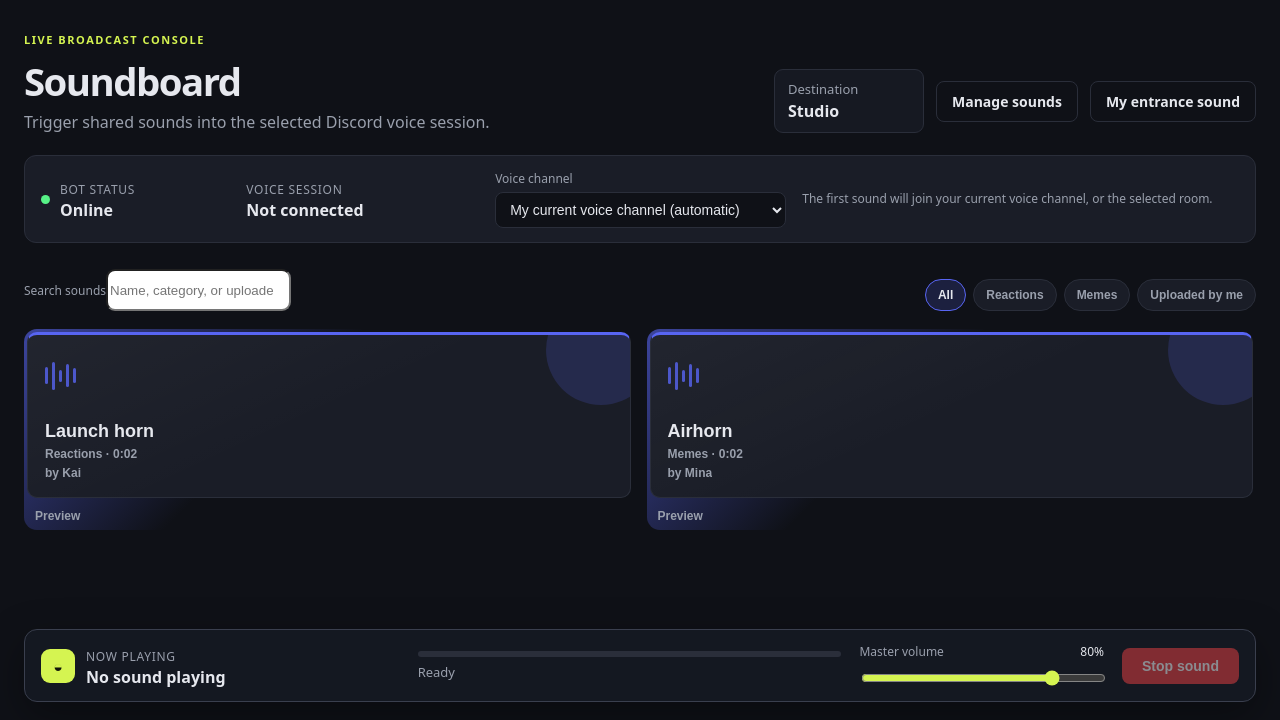
Scenario: Soundboard › keeps the active pad and announces a busy response
Click the button with aria-label "Play Launch horn": click(100, 431) [27,332,630,498]
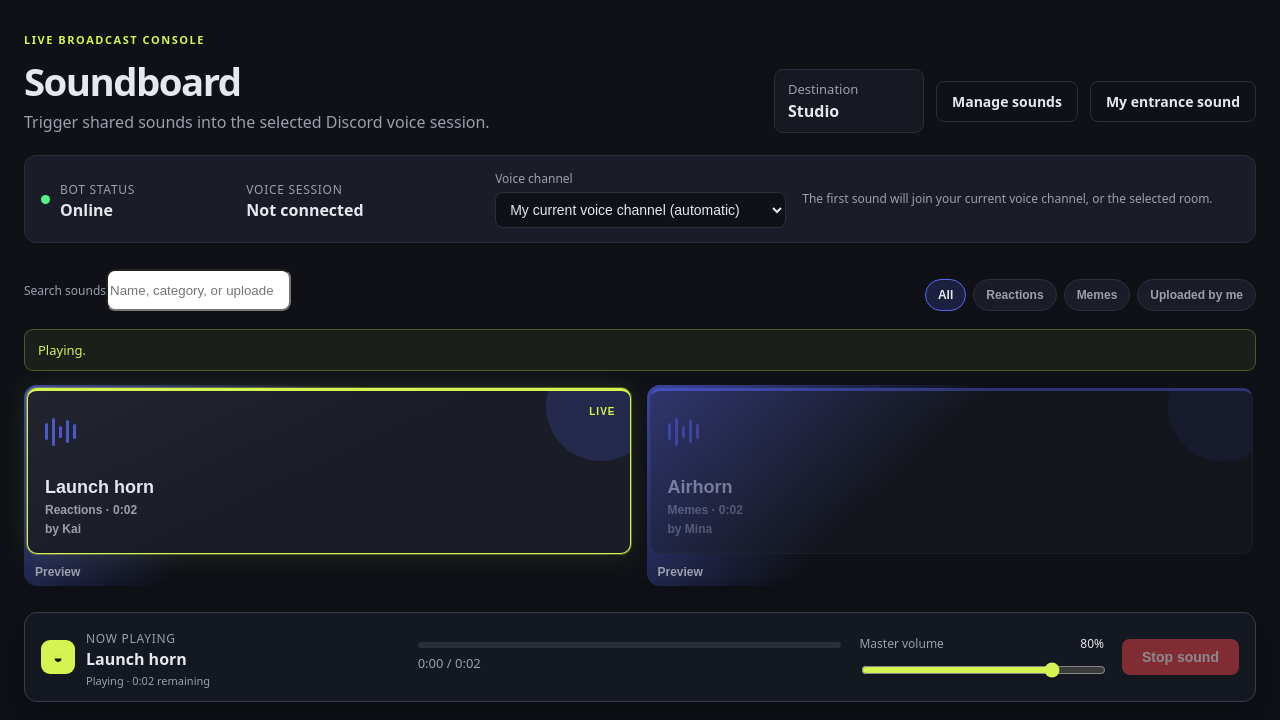
Click the button with aria-label "Play Launch horn": click(100, 487) [27,388,630,554]
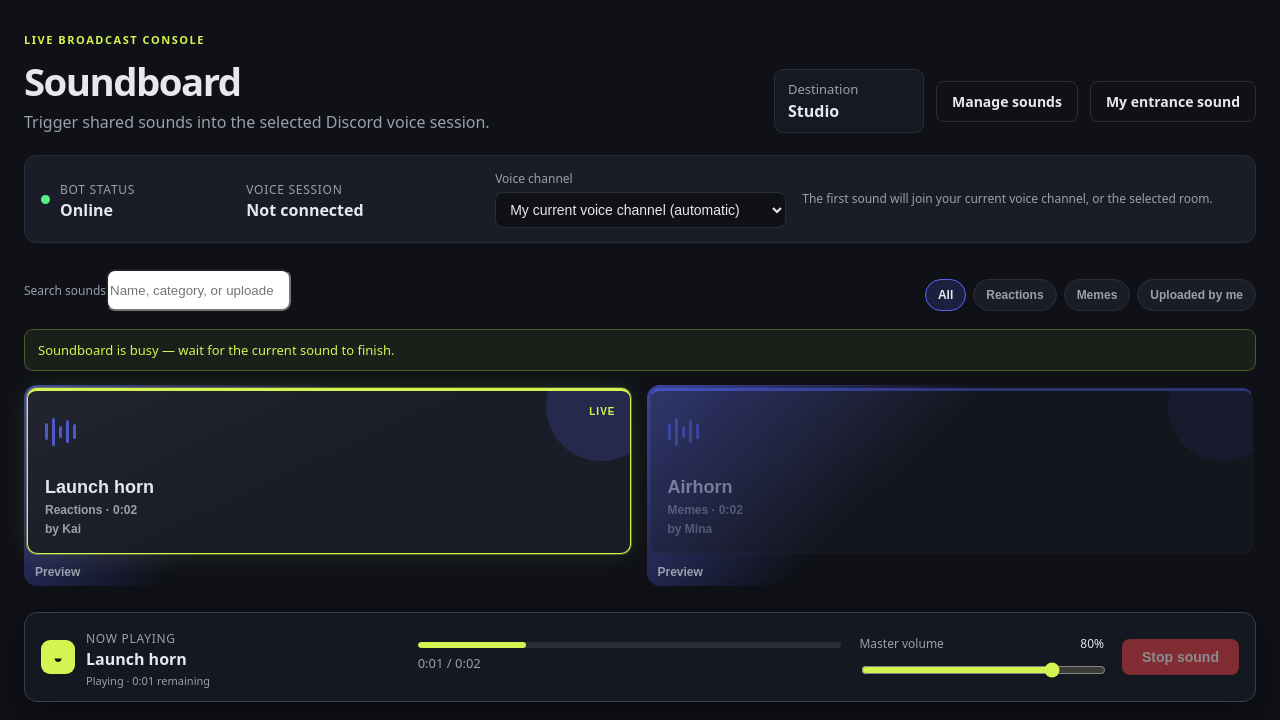
Now the text "Soundboard is busy — wait for the current sound to finish." is shown, box [24,329,1256,371]
